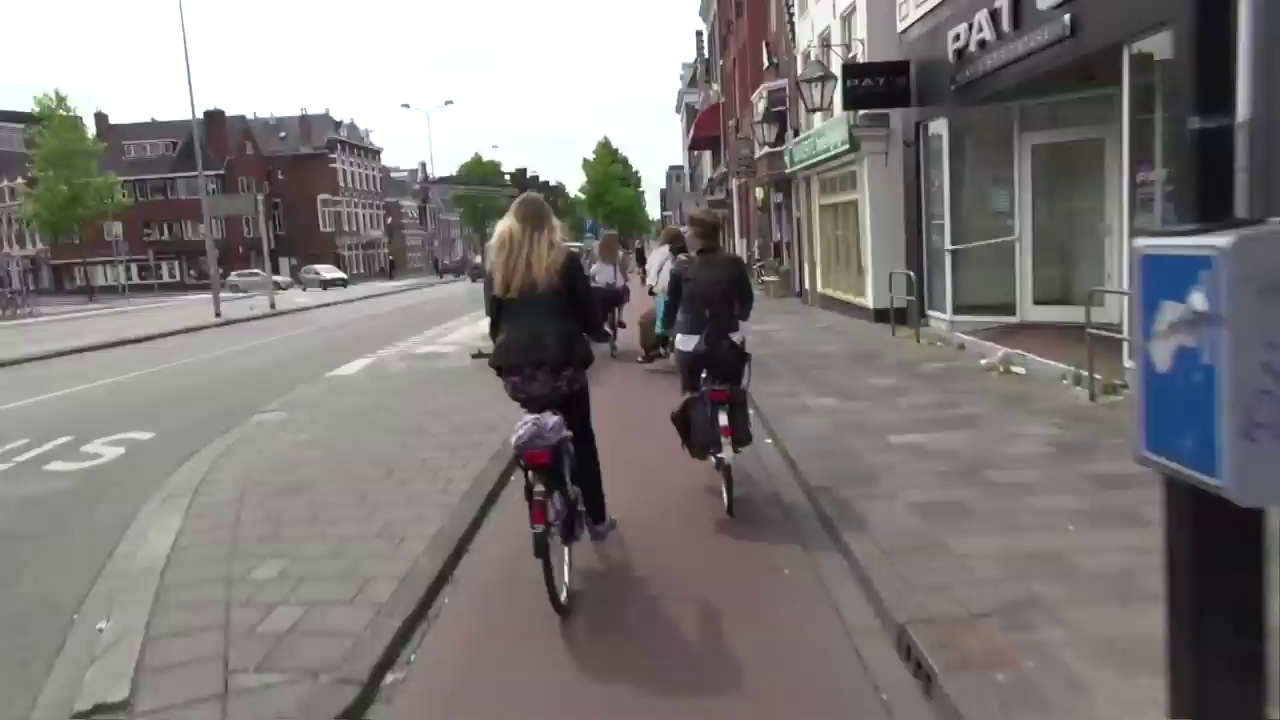cyclist_back: (472, 190, 634, 629), (665, 204, 772, 531)
